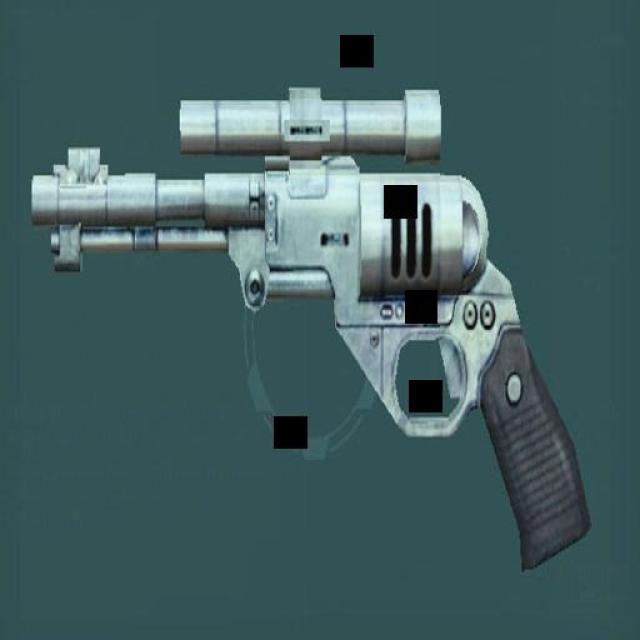gun: (24, 36, 588, 589)
